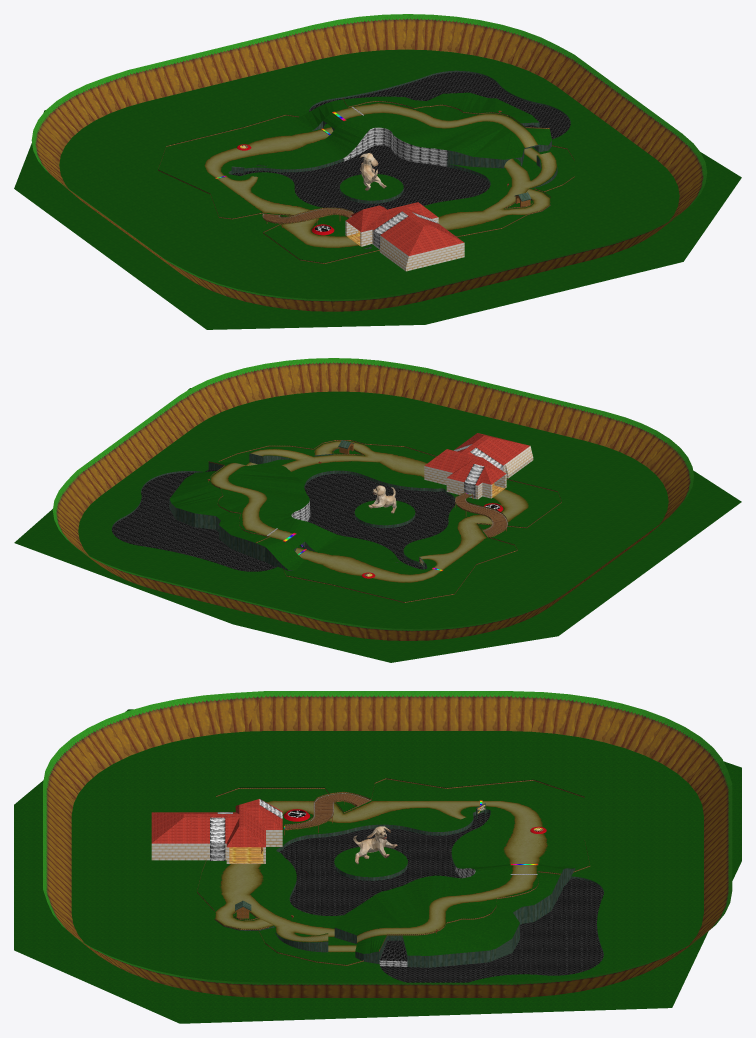
3 renders of one model, top to bottom at view 1: azimuth 30°, elevation 25°; view 2: azimuth 150°, elevation 25°; view 3: azimuth 270°, elevation 25°, orthographic. The views are drawn at different scales.
Visible parts, largest first — view 1: fix_Main_Grass, fix_Main_Walls, fix_Main_Water, fix_Main_Road, fix_Main_Roof, fix_Main_Wall, fix_Main_Taki, fix_Main_Fence, fix_Main_Brick, fix_Main_Plank, fix_Main_mat2; view 2: fix_Main_Grass, fix_Main_Walls, fix_Main_Water, fix_Main_Road, fix_Main_Wall, fix_Main_Roof, fix_Main_Fence, fix_Main_Brick, fix_Main_Taki, fix_Main_Plank; view 3: fix_Main_Grass, fix_Main_Walls, fix_Main_Water, fix_Main_Road, fix_Main_Wall, fix_Main_Roof, fix_Main_Fence, fix_Main_Brick, fix_Main_Taki, fix_Main_Plank, fix_Main_mat2, fix_Main_Barn.
Boxes of the visible parts, x1,y1,x2,y2 form: fix_Main_Grass: (14, 49, 741, 329); fix_Main_Walls: (31, 14, 707, 311); fix_Main_Water: (230, 72, 570, 212); fix_Main_Road: (203, 102, 557, 248); fix_Main_Roof: (345, 202, 463, 255); fix_Main_Wall: (217, 70, 570, 248); fix_Main_Taki: (343, 127, 447, 249); fix_Main_Fence: (158, 99, 574, 263); fix_Main_Brick: (345, 215, 464, 271); fix_Main_Plank: (262, 208, 353, 222); fix_Main_mat2: (359, 153, 386, 190); fix_Main_Grass: (14, 388, 741, 662); fix_Main_Walls: (52, 358, 693, 640); fix_Main_Water: (112, 469, 455, 571); fix_Main_Road: (210, 441, 529, 582); fix_Main_Wall: (111, 440, 455, 570); fix_Main_Roof: (424, 433, 529, 485); fix_Main_Fence: (208, 440, 561, 602); fix_Main_Brick: (424, 446, 533, 499); fix_Main_Taki: (291, 444, 503, 521); fix_Main_Plank: (455, 493, 507, 536); fix_Main_Grass: (14, 709, 741, 1023); fix_Main_Walls: (43, 691, 732, 997); fix_Main_Water: (279, 812, 603, 982); fix_Main_Road: (214, 800, 549, 952); fix_Main_Wall: (215, 803, 603, 967); fix_Main_Roof: (151, 799, 282, 847); fix_Main_Fence: (197, 778, 590, 965); fix_Main_Brick: (151, 830, 282, 863); fix_Main_Taki: (210, 799, 475, 966); fix_Main_Plank: (285, 793, 370, 828); fix_Main_mat2: (353, 826, 395, 862); fix_Main_Barn: (229, 847, 263, 863).
Size of the model in its own units: 125421 by 8674 by 122747.
35 materials, 35 textured.
